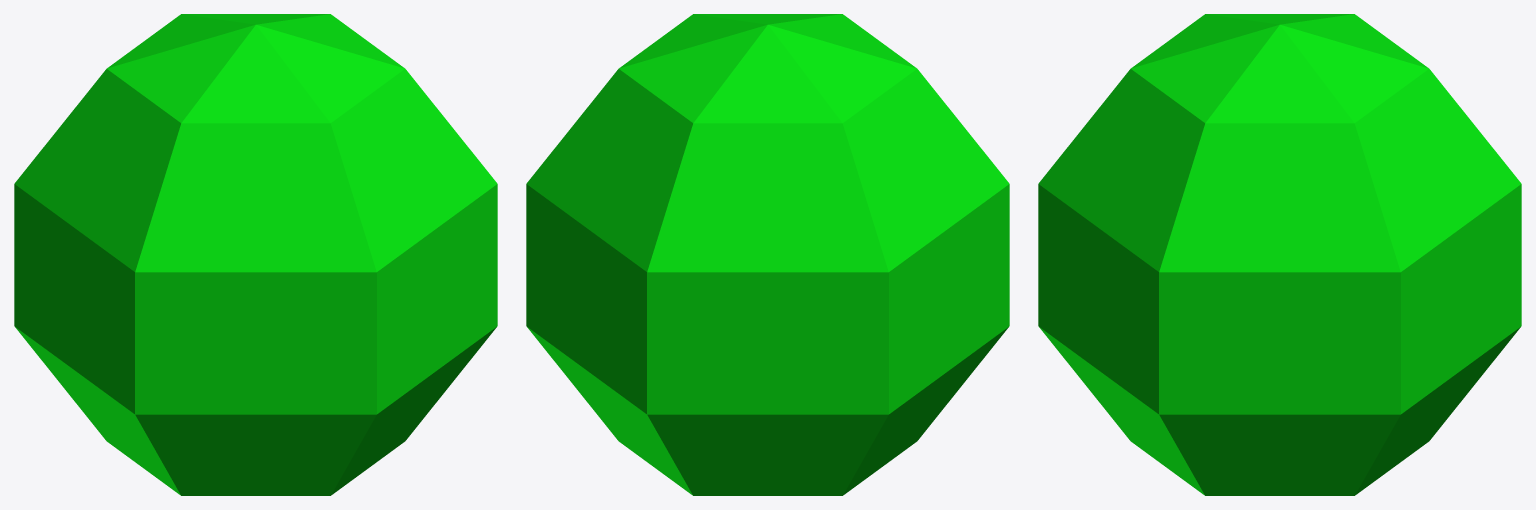
File: point.glb
The picture shows the model from 3 angles, left to right: view 1: azimuth 30°, elevation 25°; view 2: azimuth 150°, elevation 25°; view 3: azimuth 270°, elevation 25°; orthographic projection.
Parts seen in each view (by area): view 1: Sphere; view 2: Sphere; view 3: Sphere.
Part boxes in pixels (box(x1,y1,x2,y2)): Sphere: box(14, 14, 497, 495); Sphere: box(526, 14, 1009, 495); Sphere: box(1038, 14, 1521, 495).
Bounding box in the file's own units: 0.1647 × 0.2 × 0.1902.
